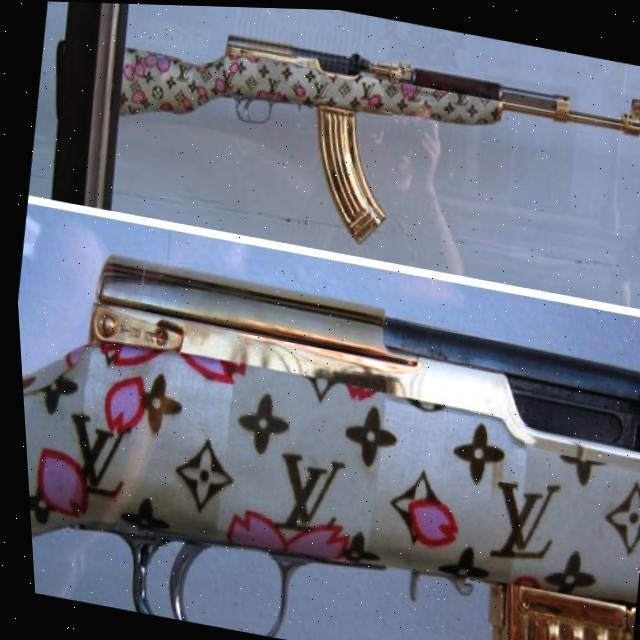firearm: (10, 216, 640, 640), (99, 2, 640, 294)
